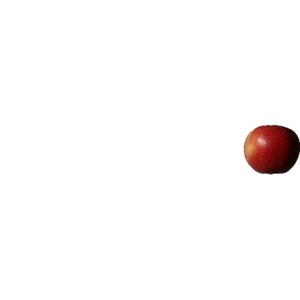maçã braeburn: (243, 123, 297, 175)
